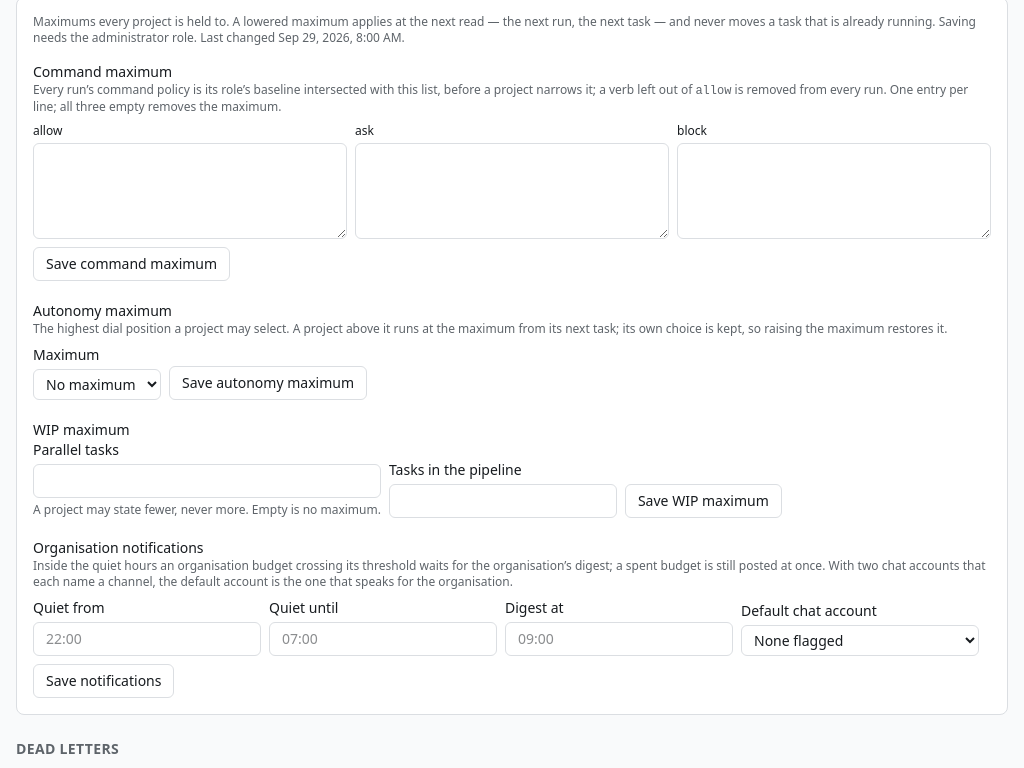
the organisation settings document on the settings page › says a change that lowers nothing caps nobody (WP-113)
(page scrolled)
Select "supervised" in the dropdown named "Organisation autonomy maximum" at x=97, y=384, box [33,369,161,400]
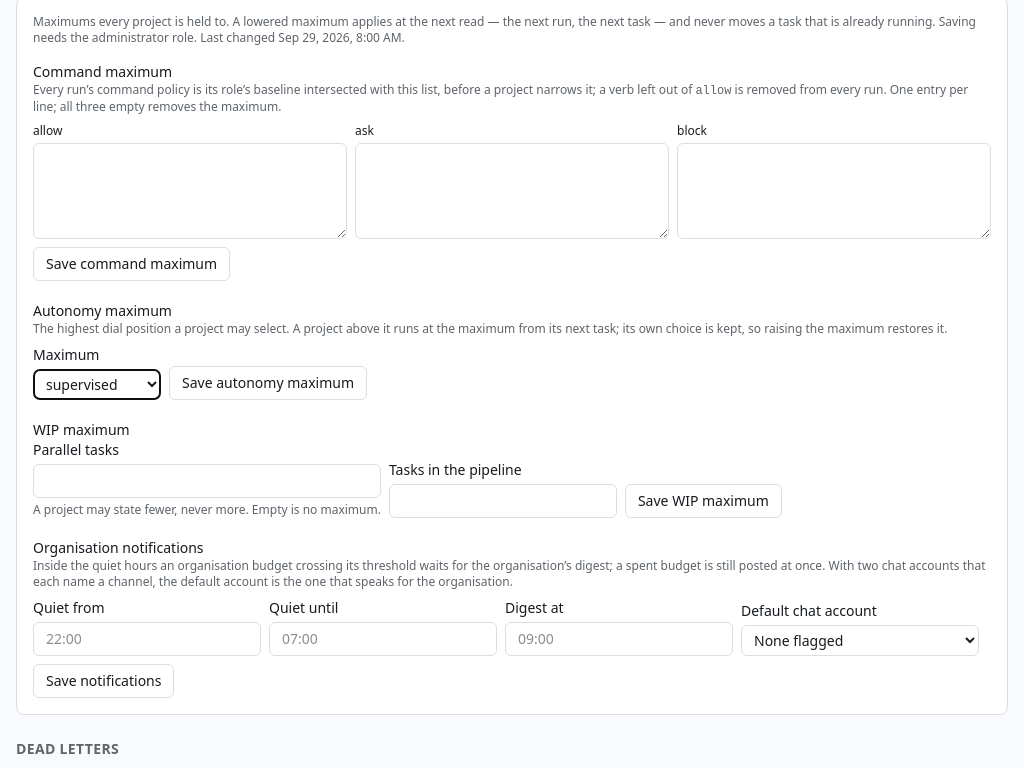
Click the button "Save autonomy maximum" at x=268, y=383, box [169,366,367,400]
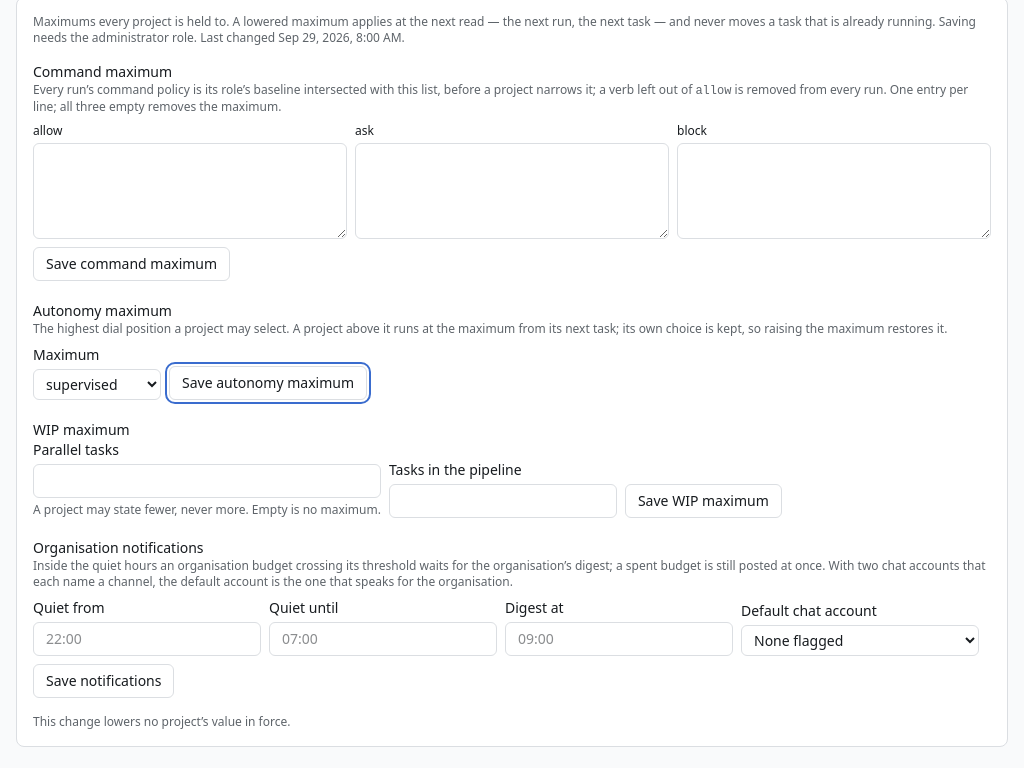
Expected: the text "This change lowers no project’s value in force." is shown, [33,713,290,730]
